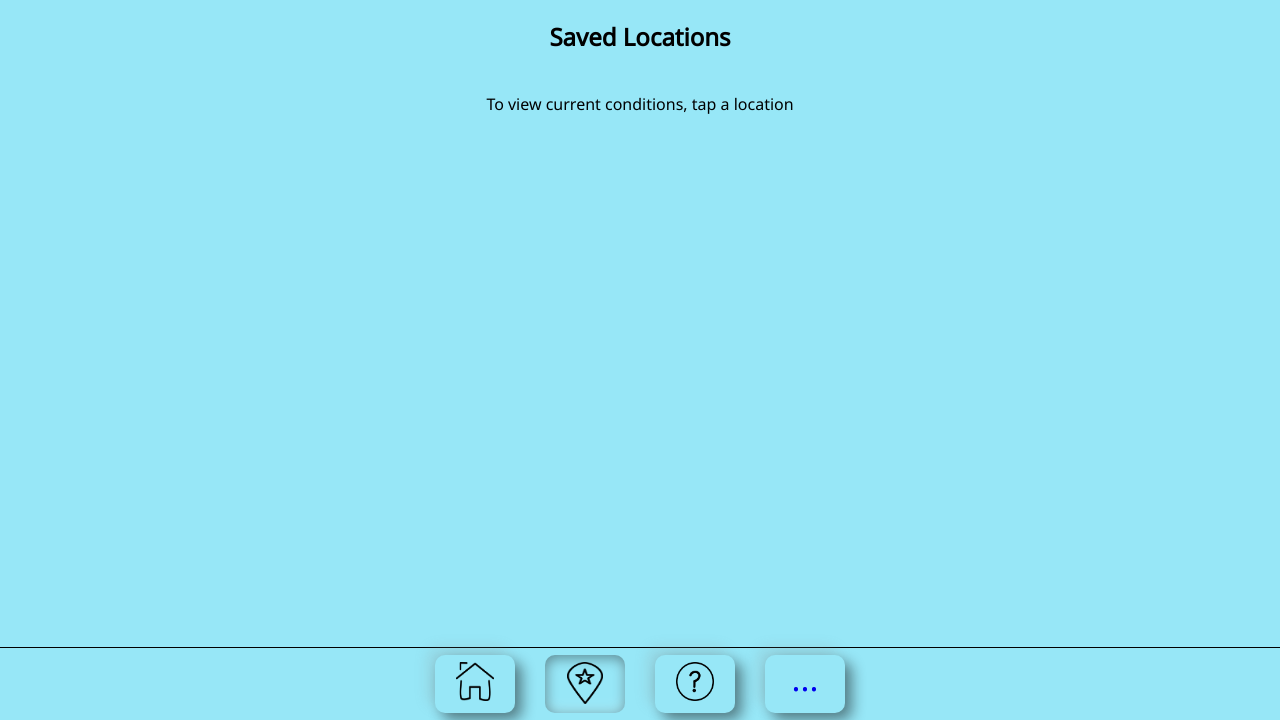
Scenario: OzoneIQ Favorites Locations Page › Should be able to view a location that the user has favorited
The image size is (1280, 720).
Step 1. Click the picture with class "home-nav-btn" → coordinates (475, 678), box top-left (456, 655), bottom-right (494, 701)
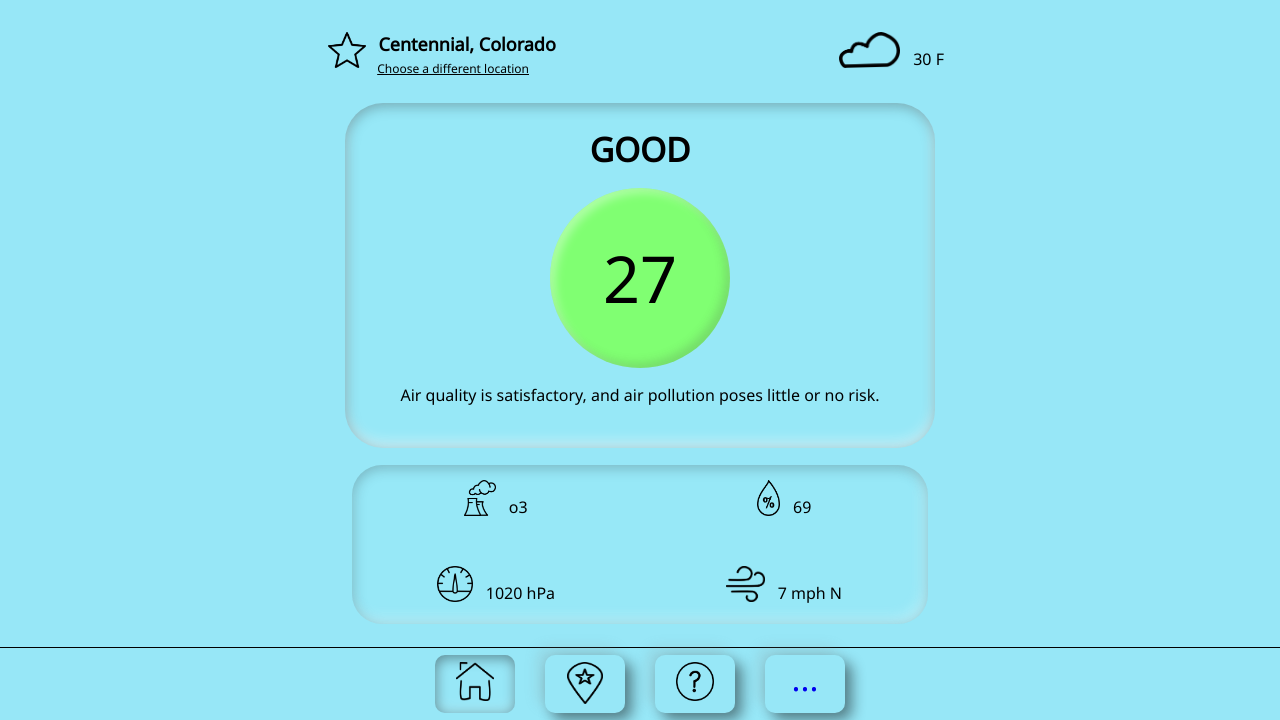
Step 2. Click the picture with class "star-icon" → coordinates (347, 50), box top-left (328, 32), bottom-right (366, 68)
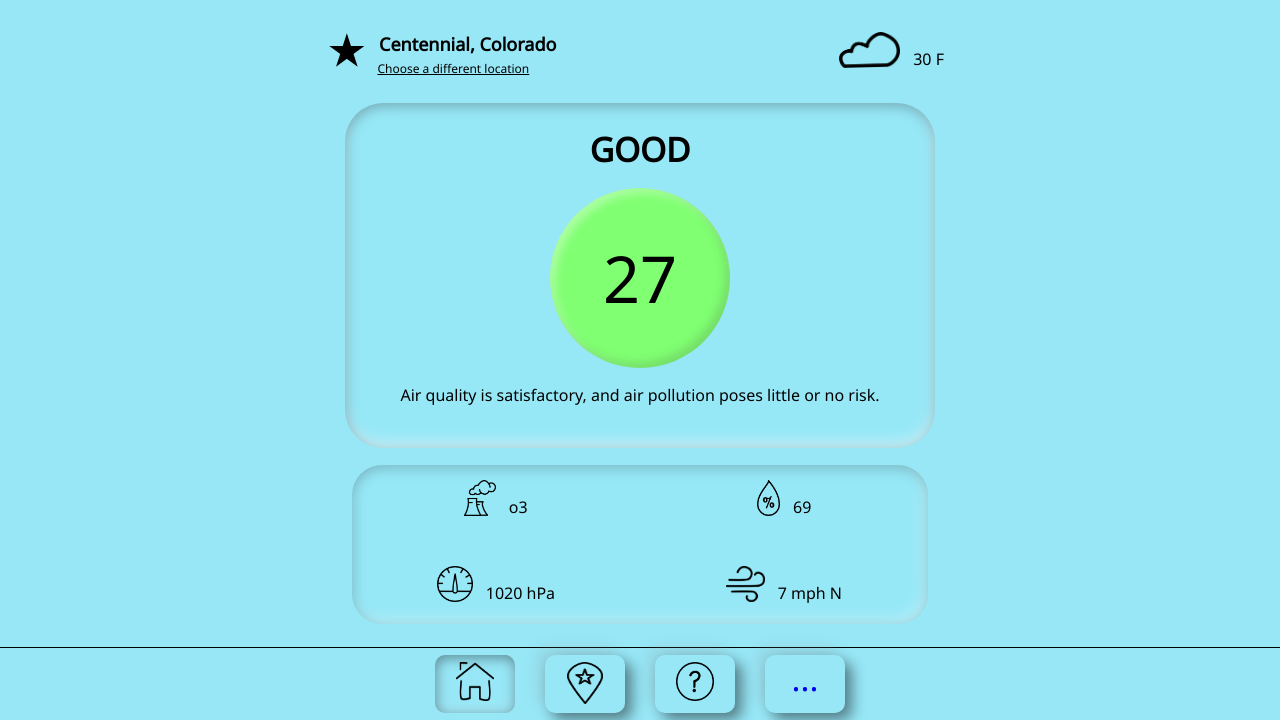
Step 3. Click the picture with class "saved-local-nav-btn" → coordinates (585, 680), box top-left (567, 655), bottom-right (602, 704)
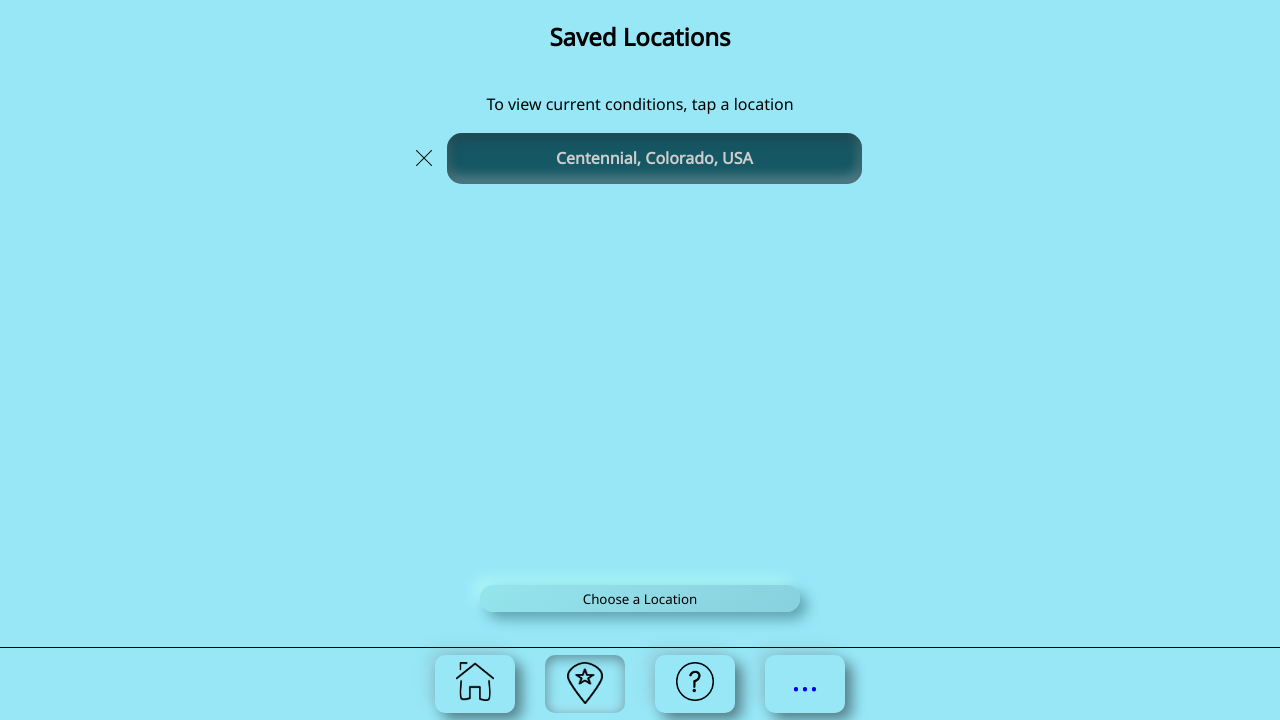
Now the heading with class "location" reads "Centennial, Colorado, USA", box top-left (556, 147), bottom-right (753, 169)
